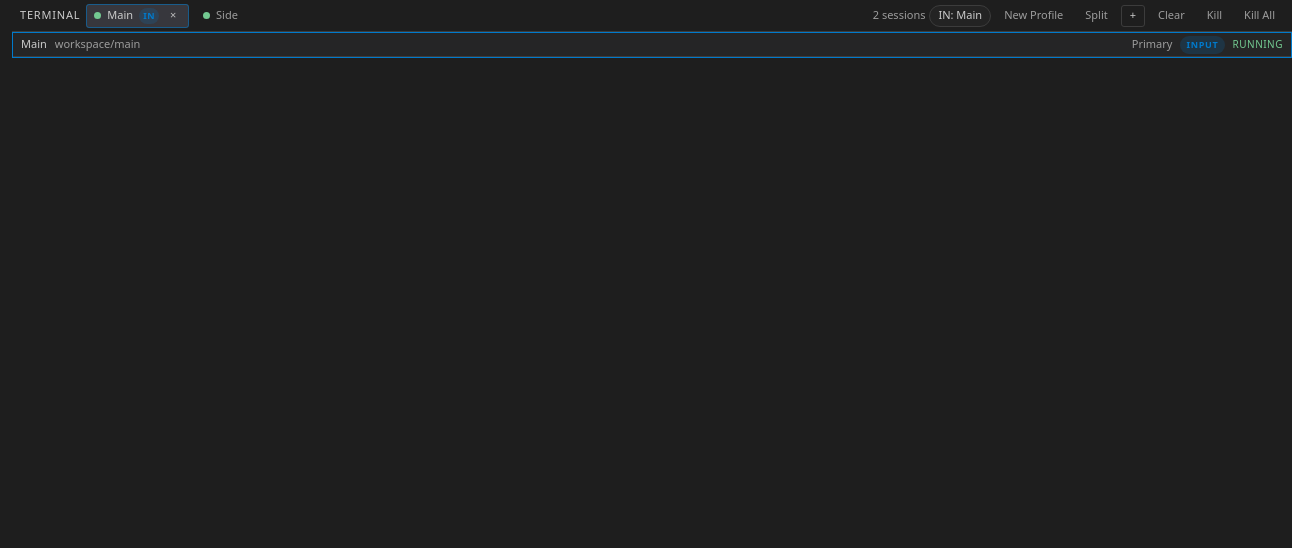
Test: TerminalPanel › enables split layout from the toolbar
Click the button "Split" at (1097, 16), box [1076,4,1117,26]
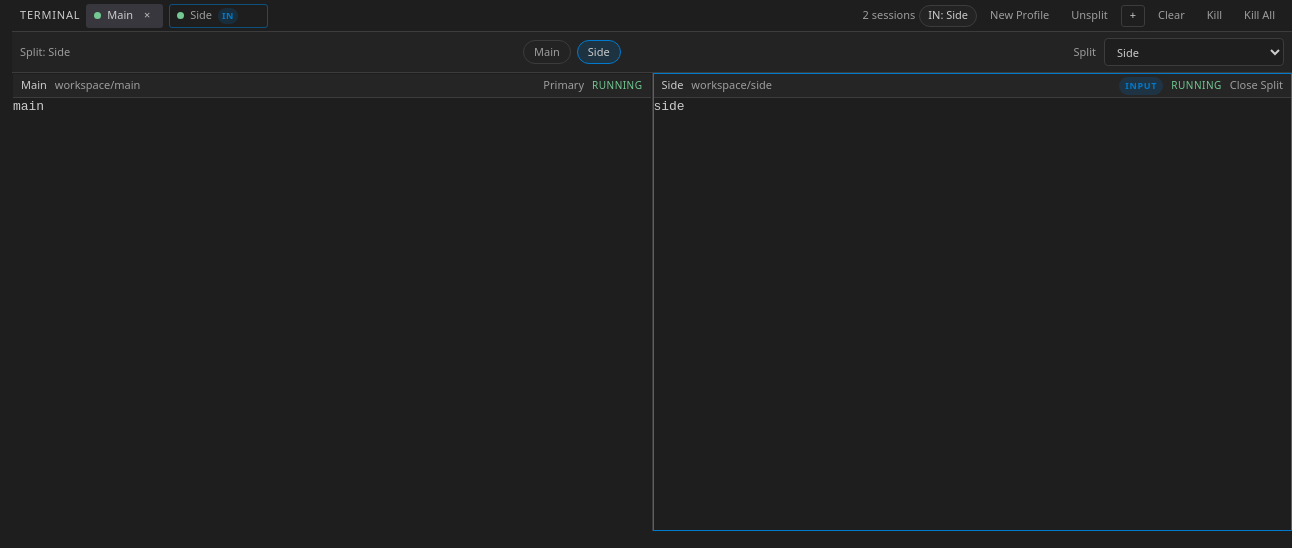
Check: the number of elements with class "terminal-pane" is 2, box [12,73,652,531]; [652,73,1291,531]
